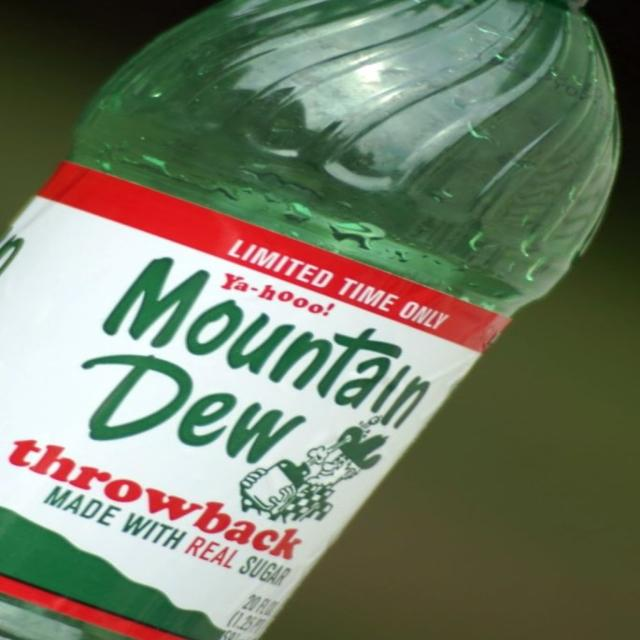Bottle: (0, 0, 619, 639)
